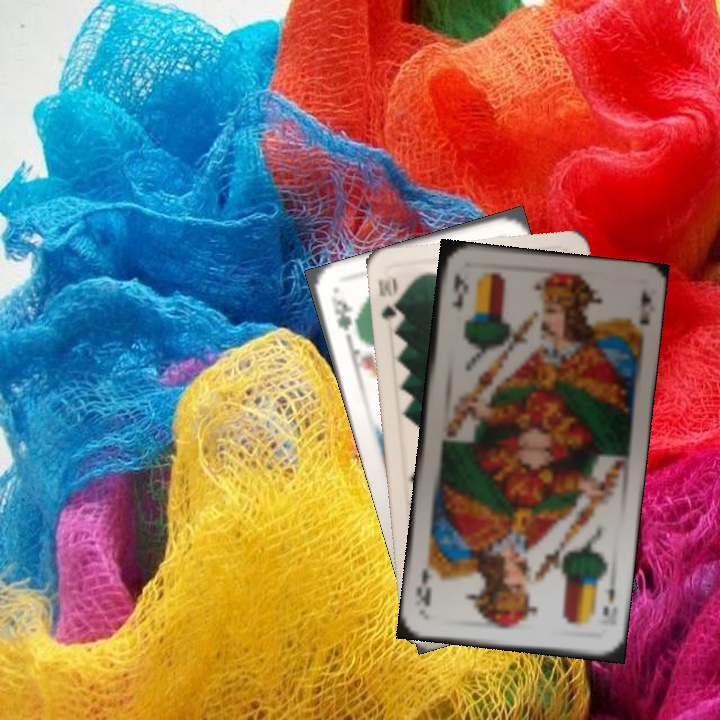EK: (448, 269, 471, 315), (598, 575, 619, 619)
G10: (374, 270, 404, 329)
GK: (327, 291, 355, 344)
